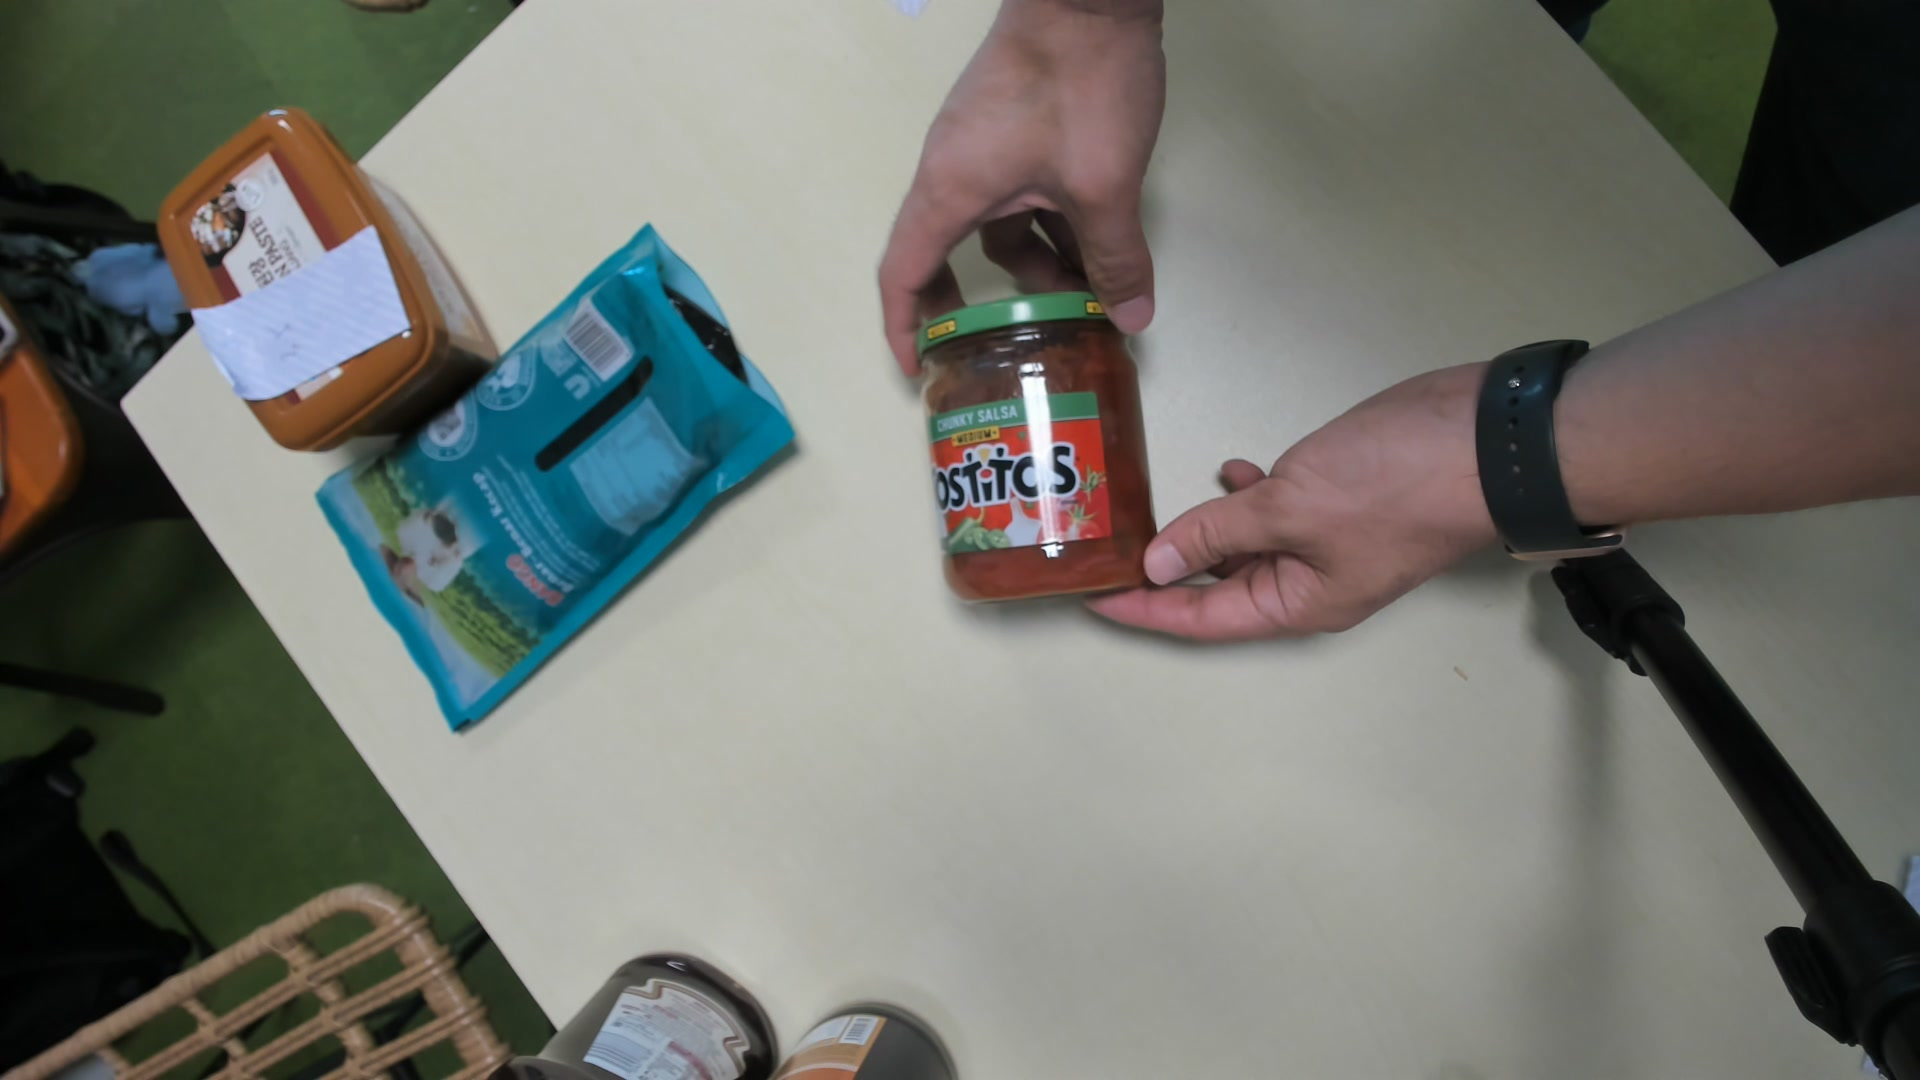OtherSauceDressing_400-499g_NonHalal_NonHealthy: (916, 293, 1162, 605)
